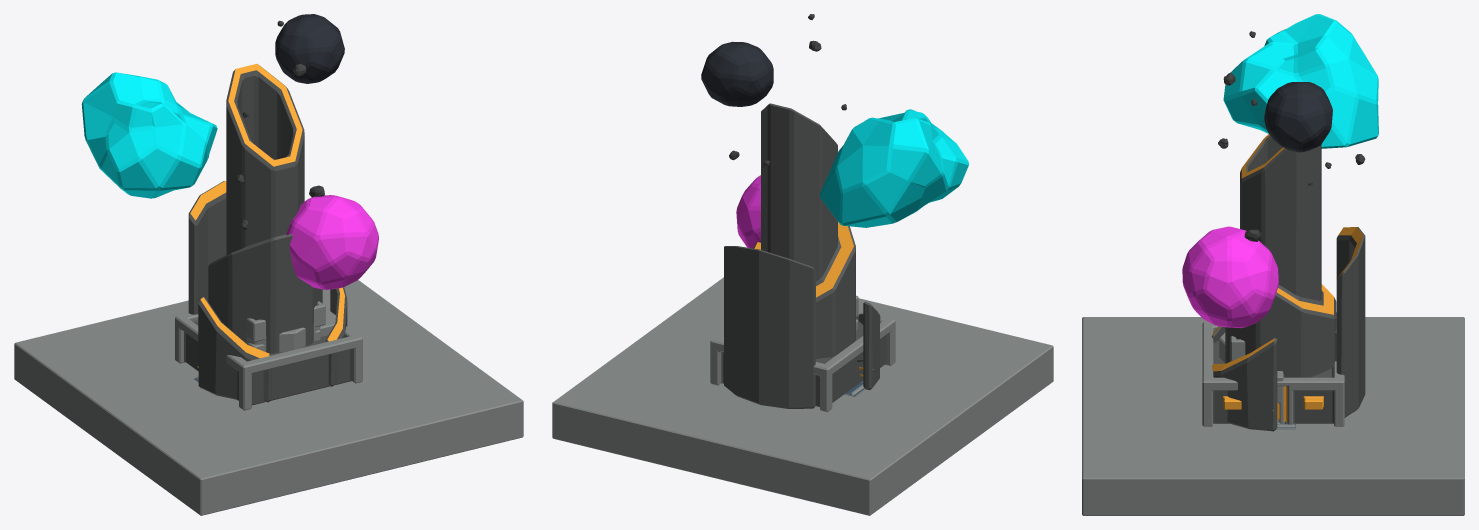
File: LP_Space_Mining_Colony.fbx
The picture shows the model from 3 angles, left to right: view 1: azimuth 30°, elevation 25°; view 2: azimuth 150°, elevation 25°; view 3: azimuth 270°, elevation 25°; orthographic projection. The views are drawn at different scales.
Visible parts, largest first — view 1: 01_Floor, 08_Main_Building, 02_Floating_Mineral, 25_Observatory, 03_Sort_Building; view 2: 01_Floor, 08_Main_Building, 02_Floating_Mineral, 25_Observatory; view 3: 01_Floor, 08_Main_Building, 02_Floating_Mineral, 25_Observatory, 03_Sort_Building, 21_Space_Debree_01.
Part boxes in pixels (x1,y1,x2,y2): 01_Floor: (14,280,523,515); 08_Main_Building: (188,63,347,402); 02_Floating_Mineral: (81,14,378,289); 25_Observatory: (175,313,362,410); 03_Sort_Building: (247,301,335,351); 01_Floor: (552,277,1053,515); 08_Main_Building: (724,103,880,408); 02_Floating_Mineral: (701,41,968,248); 25_Observatory: (710,311,895,412); 01_Floor: (1082,317,1464,515); 08_Main_Building: (1211,134,1365,431); 02_Floating_Mineral: (1182,14,1378,328); 25_Observatory: (1202,322,1344,426); 03_Sort_Building: (1230,336,1283,426); 21_Space_Debree_01: (1218,73,1365,241).
Size of the model in its own units: 273 by 342 by 272.
1 material, 1 textured.
